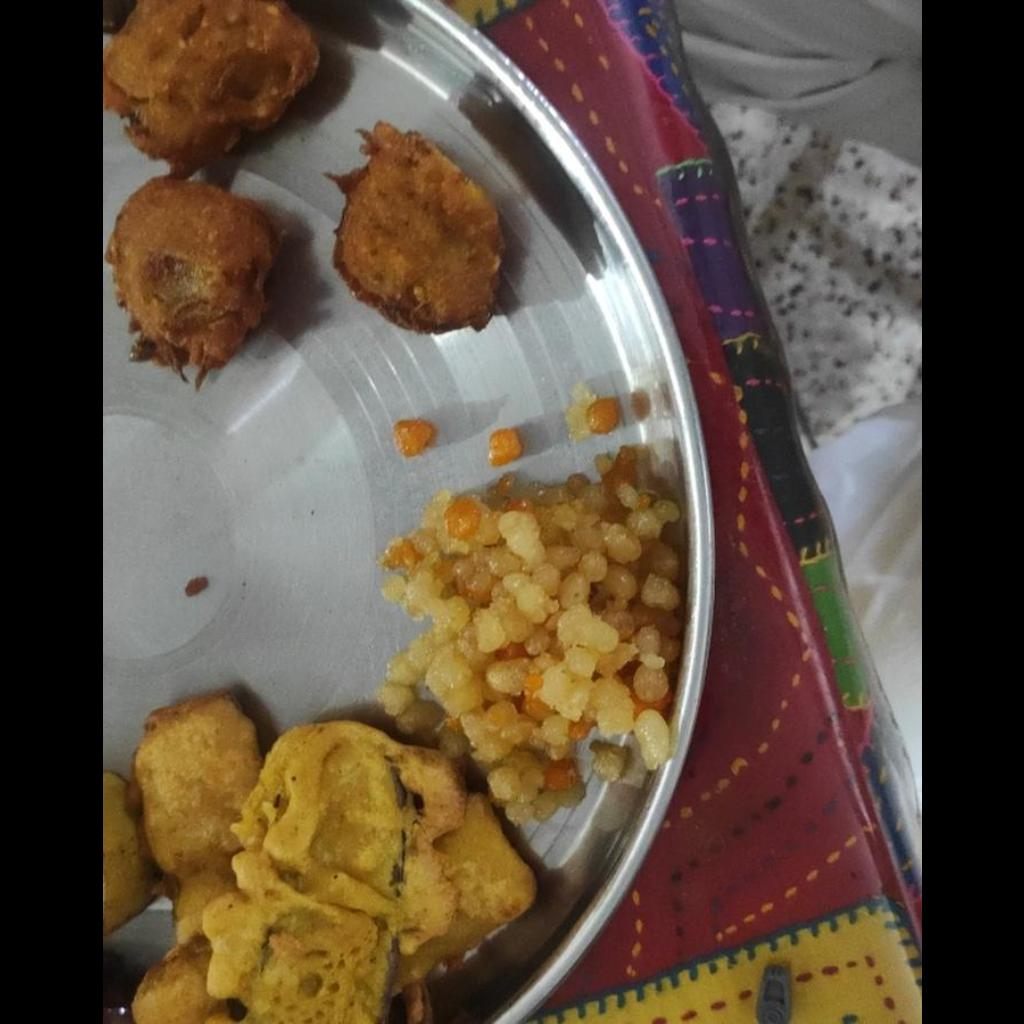beguni: (104, 698, 535, 1020)
burinda: (372, 446, 673, 824)
piyaju: (102, 0, 318, 382), (331, 124, 502, 333)
